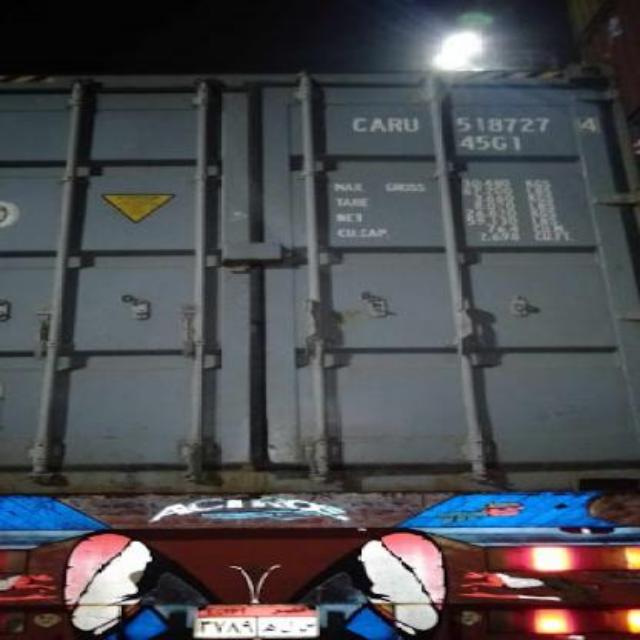1: (474, 118, 486, 134)
2: (518, 117, 536, 133)
4: (580, 116, 596, 132)
5: (452, 116, 474, 132)
7: (502, 117, 518, 133), (536, 117, 552, 133)
8: (486, 117, 504, 133)
A: (368, 117, 388, 133)
C: (350, 116, 368, 132)
R: (388, 116, 402, 132)
U: (402, 117, 420, 133)
